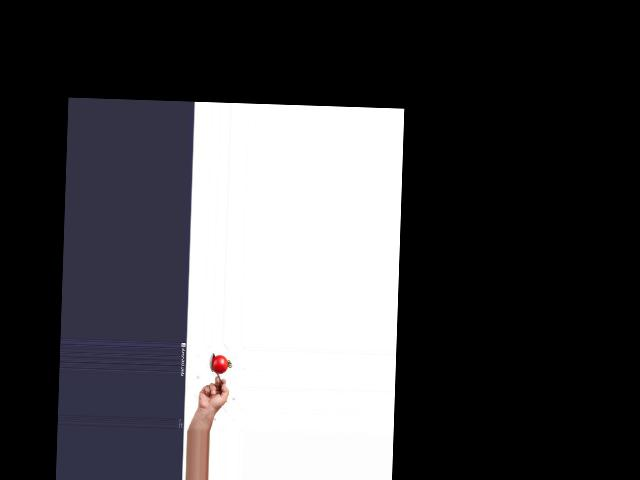tomato: (211, 355, 228, 374)
